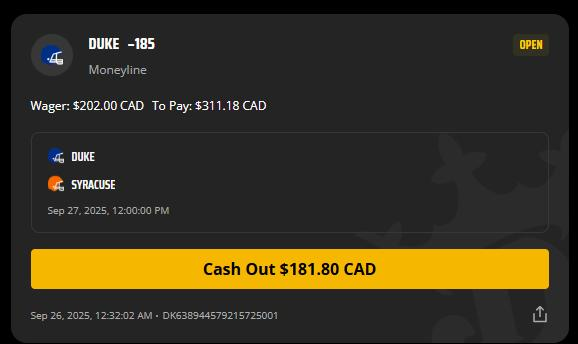game: (70, 150, 117, 190)
odds: (127, 36, 157, 52)
payout: (196, 97, 241, 114)
wager: (73, 99, 118, 112)
